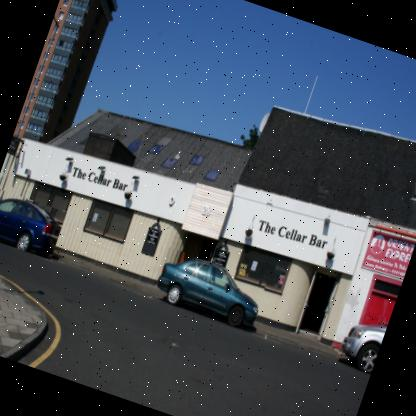Car: (152, 248, 268, 331), (0, 187, 68, 262), (335, 306, 390, 375)
